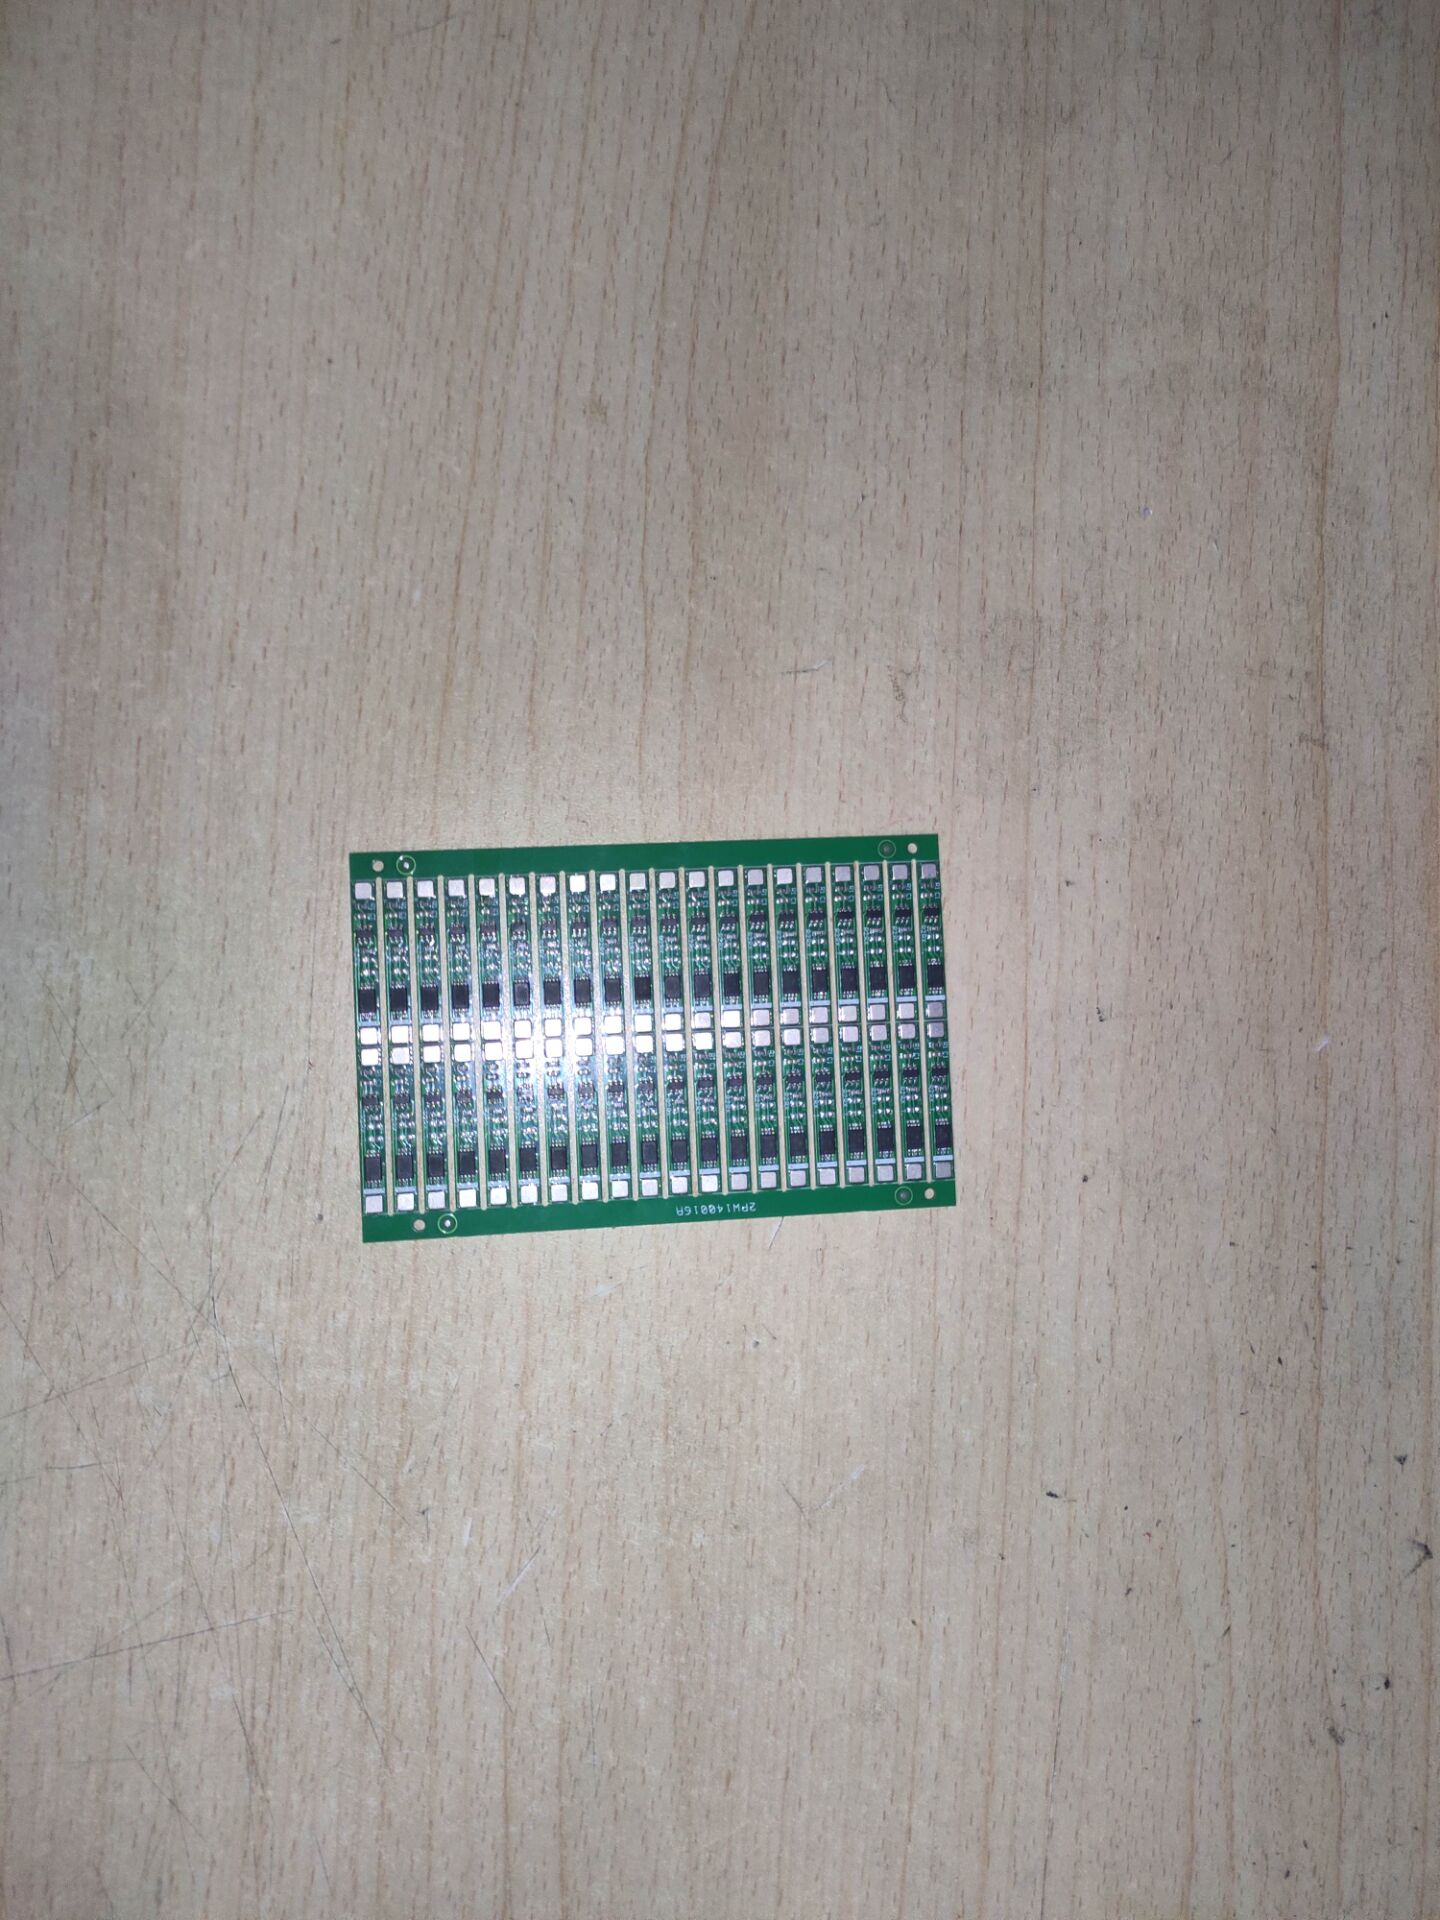point: (603, 1015, 624, 1034), (604, 1036, 624, 1054), (692, 1034, 714, 1050), (693, 1012, 712, 1030), (539, 876, 555, 896), (780, 1008, 801, 1025), (934, 1162, 954, 1179), (721, 1033, 744, 1048), (896, 1004, 918, 1019), (891, 863, 909, 882), (574, 1037, 592, 1056), (635, 1015, 653, 1032), (898, 1024, 917, 1041), (759, 1170, 777, 1188), (752, 1030, 772, 1046), (781, 1028, 800, 1045), (817, 1169, 836, 1185), (866, 1005, 888, 1020), (385, 882, 404, 898), (448, 878, 464, 897), (360, 1028, 378, 1044), (483, 1021, 500, 1037), (545, 1020, 562, 1037), (635, 1037, 654, 1054), (810, 1007, 827, 1025), (869, 1023, 888, 1040), (520, 1186, 538, 1202), (789, 1169, 807, 1185), (847, 1167, 865, 1184), (353, 884, 372, 900), (722, 1012, 741, 1027), (841, 1026, 860, 1042), (811, 1028, 832, 1042), (478, 878, 495, 895), (569, 875, 586, 892), (717, 871, 734, 887), (575, 1019, 591, 1035), (841, 1006, 858, 1022), (876, 1166, 893, 1182), (416, 881, 434, 896), (629, 873, 644, 890), (834, 868, 851, 883), (361, 1048, 379, 1063), (515, 1019, 530, 1037), (515, 1041, 533, 1057), (752, 1011, 770, 1026), (396, 1194, 415, 1210), (427, 1191, 444, 1206), (451, 1025, 470, 1039), (510, 877, 525, 894), (921, 862, 936, 878), (391, 1026, 407, 1041), (664, 1015, 681, 1029), (926, 1004, 943, 1019), (640, 1179, 657, 1194), (659, 871, 673, 889), (805, 867, 819, 884), (862, 865, 880, 878), (453, 1045, 470, 1059), (484, 1044, 502, 1059), (544, 1043, 562, 1057), (666, 1035, 684, 1049), (927, 1023, 945, 1037), (599, 876, 614, 891), (459, 1188, 474, 1204), (550, 1184, 565, 1199), (746, 871, 763, 885), (392, 1048, 408, 1061), (424, 1025, 440, 1038), (423, 1047, 440, 1062), (905, 1165, 921, 1179), (690, 872, 704, 888), (367, 1197, 382, 1211), (492, 1189, 506, 1202), (583, 1184, 598, 1197), (671, 1178, 687, 1192), (730, 1175, 746, 1188), (775, 869, 791, 882), (611, 1182, 627, 1195), (703, 1176, 716, 1188)
